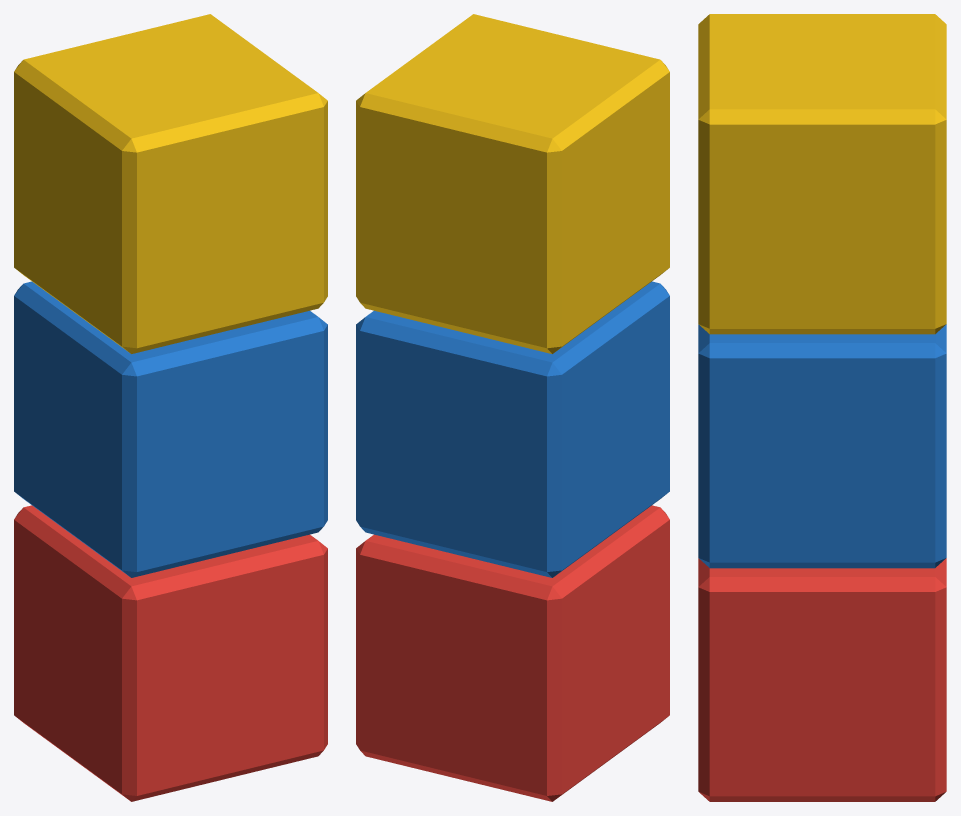
File: block_tower_section.glb
3 renders of one model, left to right at view 1: azimuth 30°, elevation 25°; view 2: azimuth 150°, elevation 25°; view 3: azimuth 270°, elevation 25°, orthographic. The views are drawn at different scales.
Visible parts, largest first — view 1: block_tower_section; view 2: block_tower_section; view 3: block_tower_section.
Part boxes in pixels (x1,y1,x2,y2): block_tower_section: (14,14,327,801); block_tower_section: (356,14,669,801); block_tower_section: (698,14,946,801).
Bounding box in the file's own units: 0.26 × 0.8 × 0.26.
